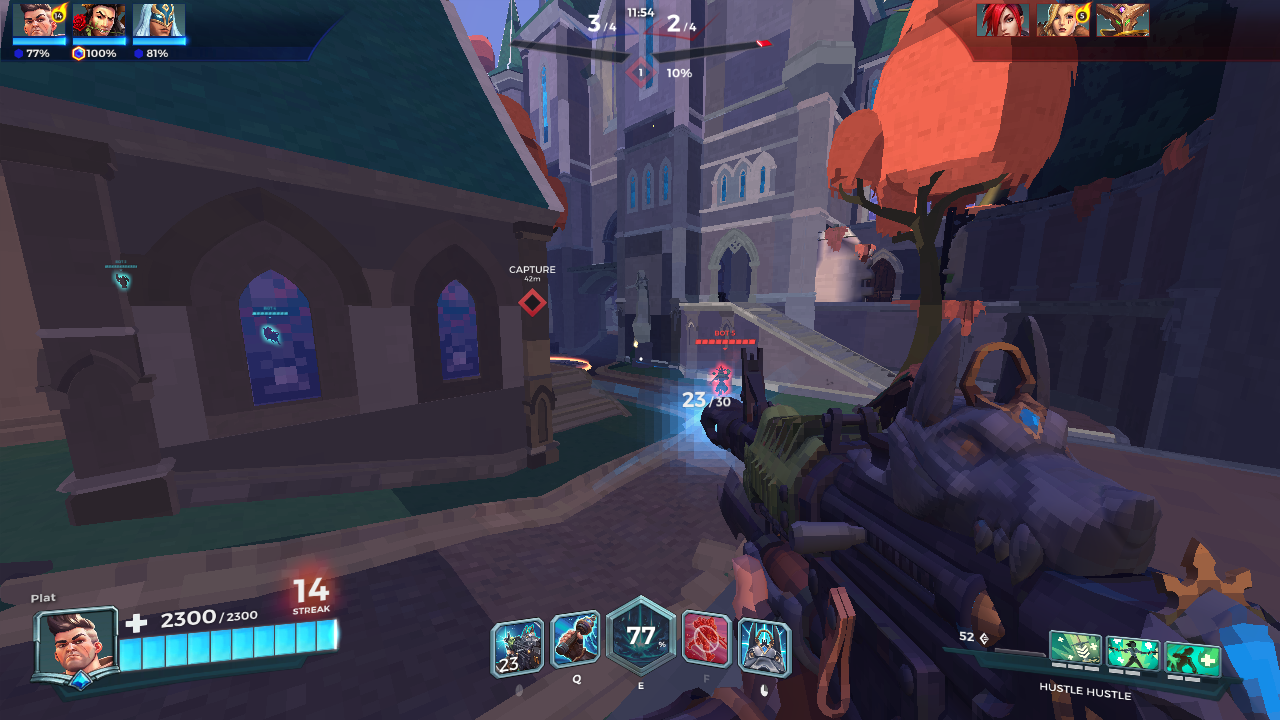model: (712, 362, 730, 395)
